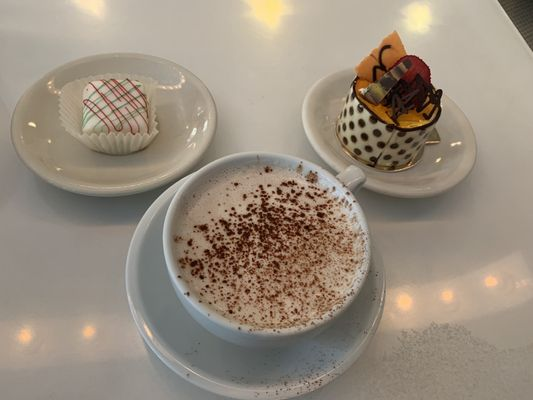curry: (2, 1, 531, 400)
sushi: (163, 152, 370, 346), (77, 76, 160, 155)
